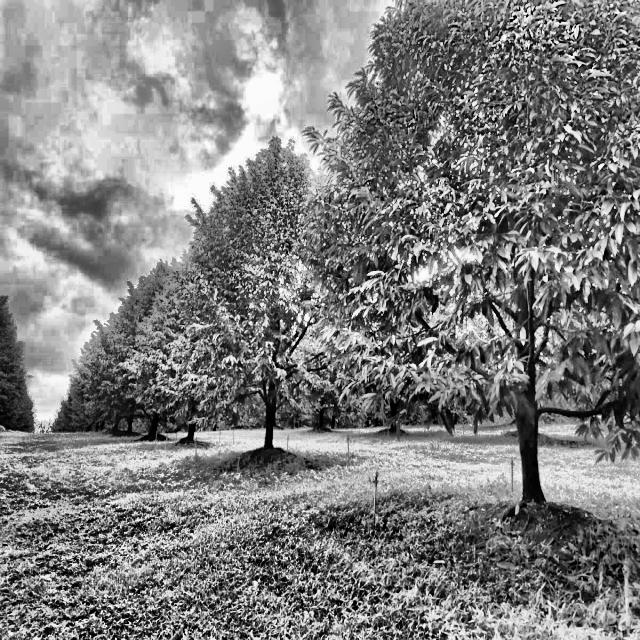arvore: (478, 232, 564, 538), (254, 311, 284, 472), (178, 378, 204, 461)
